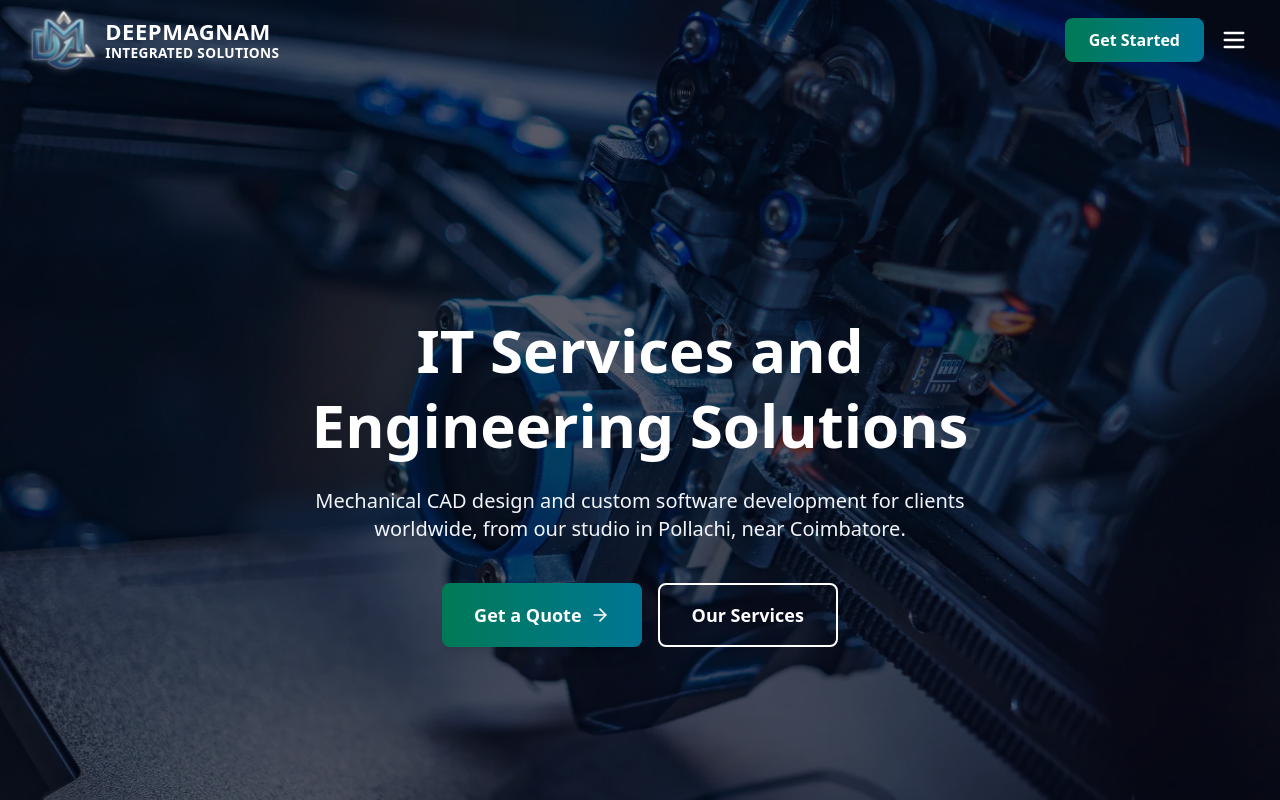
mobile menu › opens, then closes after choosing a link
Check: the heading "IT Services and Engineering Solutions" is shown, box x1=312 y1=309 x2=968 y2=466
Click the button named "Open menu" at (1234, 40), box x1=1220 y1=26 x2=1248 y2=54
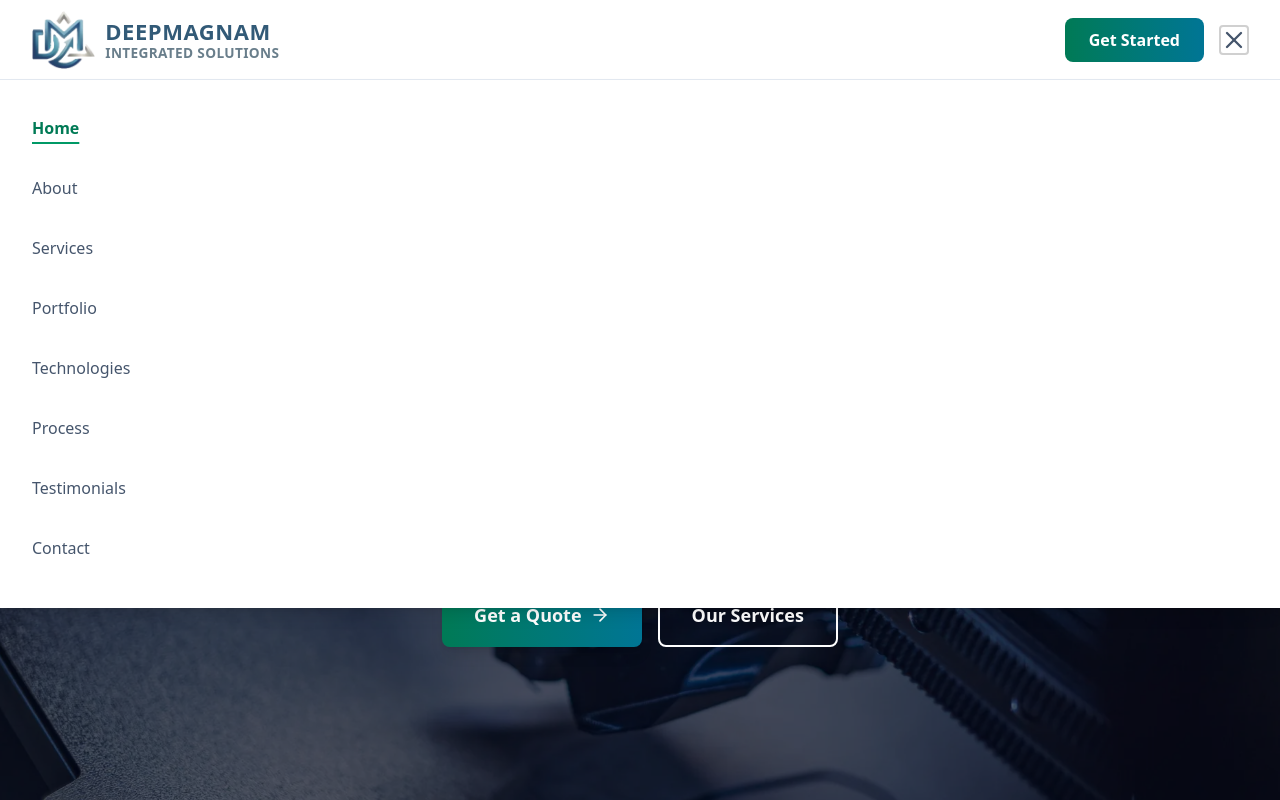
Check: the button named "Open menu" is expanded, box x1=1220 y1=26 x2=1248 y2=54
Click the link "Services" at (62, 248), box x1=32 y1=237 x2=93 y2=259
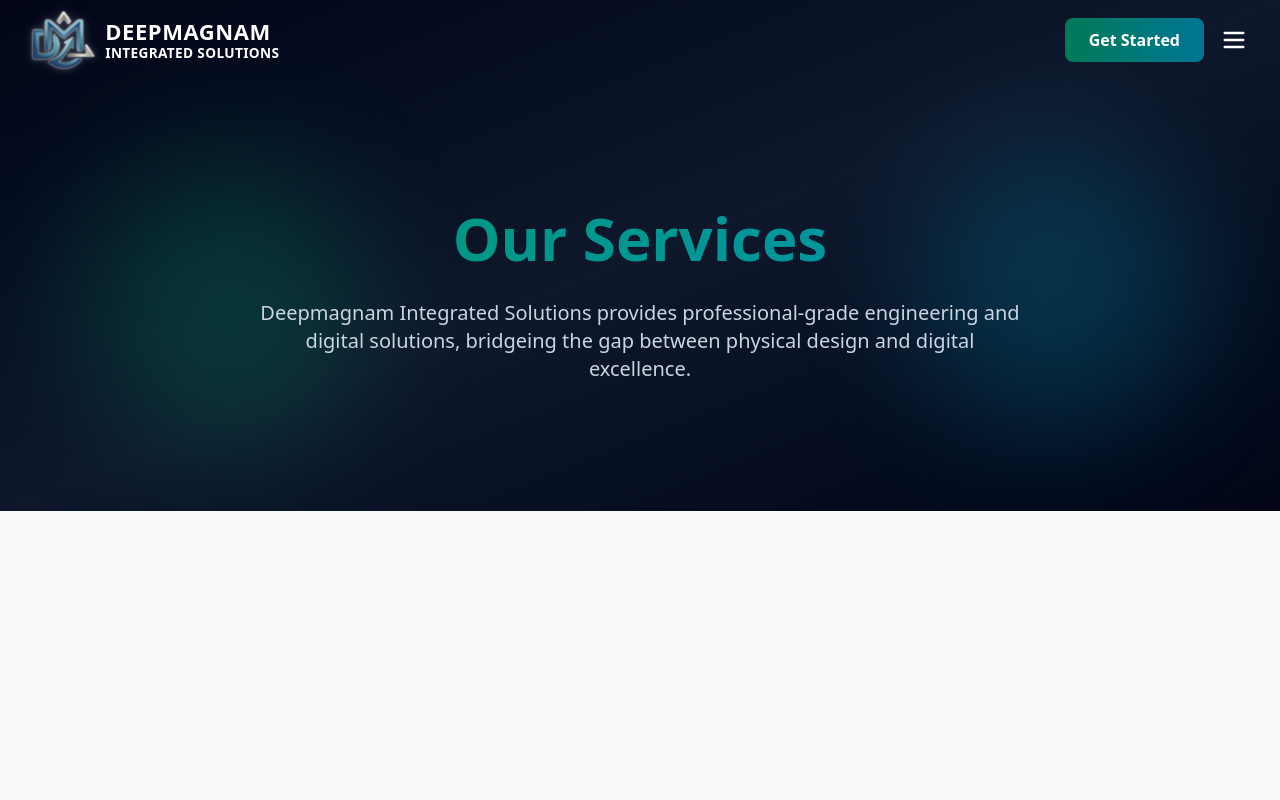
Check: the heading "Our Services" is shown, box x1=32 y1=208 x2=1248 y2=275
Check: the button named "Open menu" is collapsed, box x1=1220 y1=26 x2=1248 y2=54
